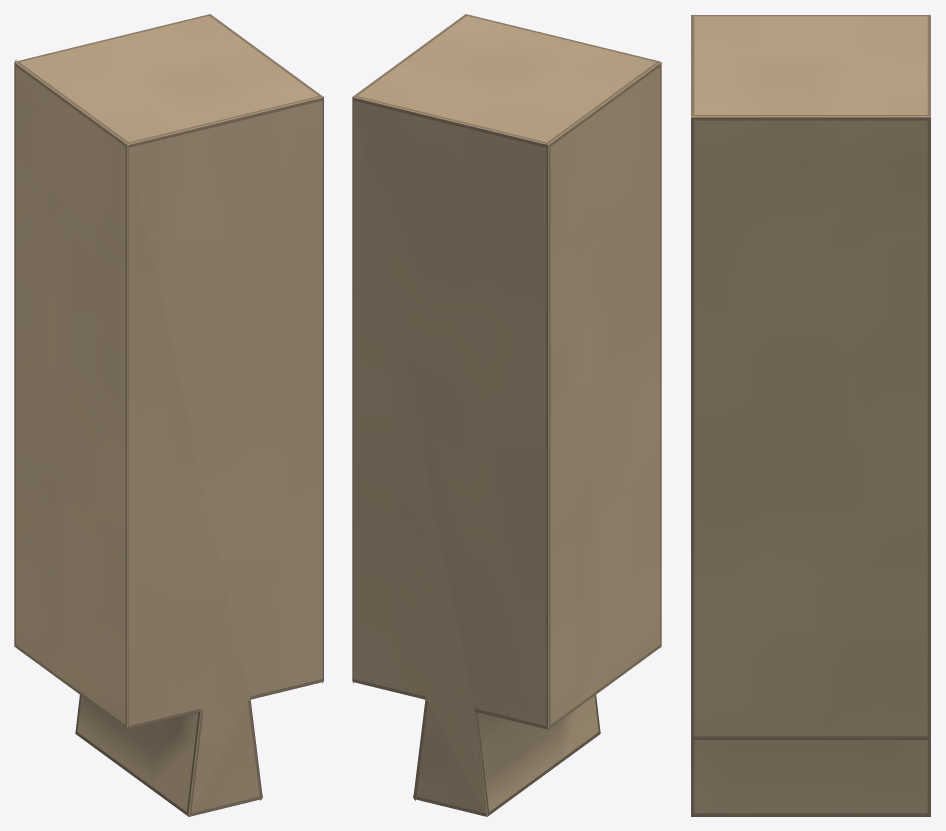
3 renders of one model, left to right at view 1: azimuth 30°, elevation 25°; view 2: azimuth 150°, elevation 25°; view 3: azimuth 270°, elevation 25°, orthographic. The views are drawn at different scales.
Visible parts, largest first — view 1: part-b; view 2: part-b; view 3: part-b.
Boxes of the visible parts, <box> form: part-b: <box>14,14,323,816</box>; part-b: <box>352,14,661,816</box>; part-b: <box>691,15,930,816</box>.
Size of the model in its own units: 0.1058 by 0.3546 by 0.1058.
